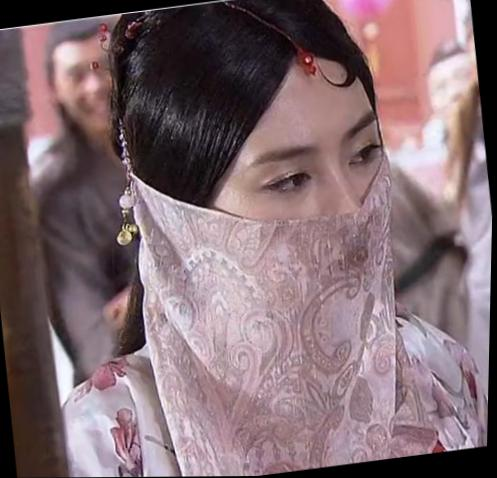NONE: (55, 48, 131, 136)
WRONG: (204, 110, 418, 341)
